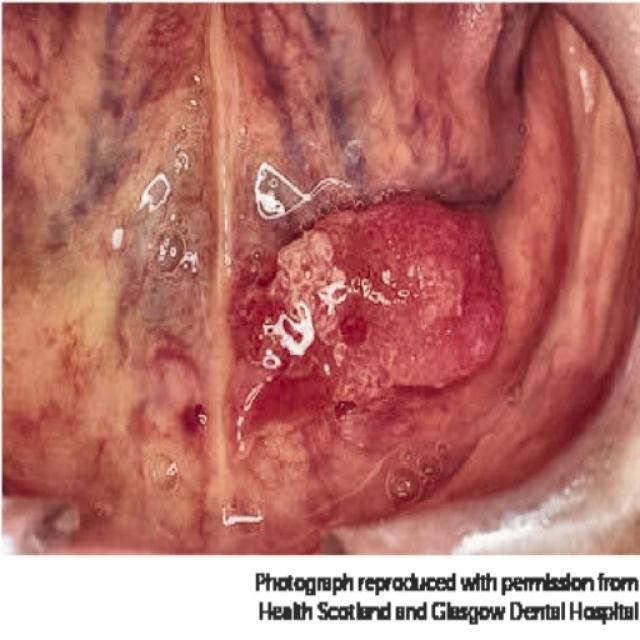cancer-detection: (201, 149, 525, 495)
processing_area: (4, 1, 639, 553)
